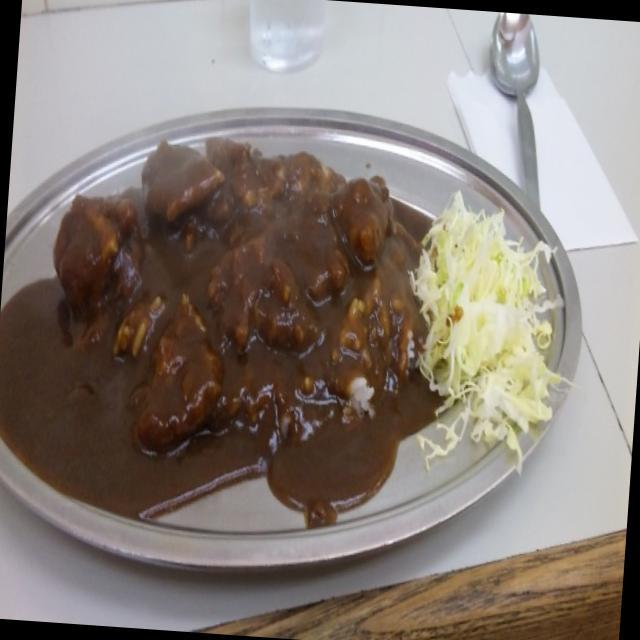Beef Curry: (0, 138, 424, 523)
Green Salad: (414, 192, 568, 430)
